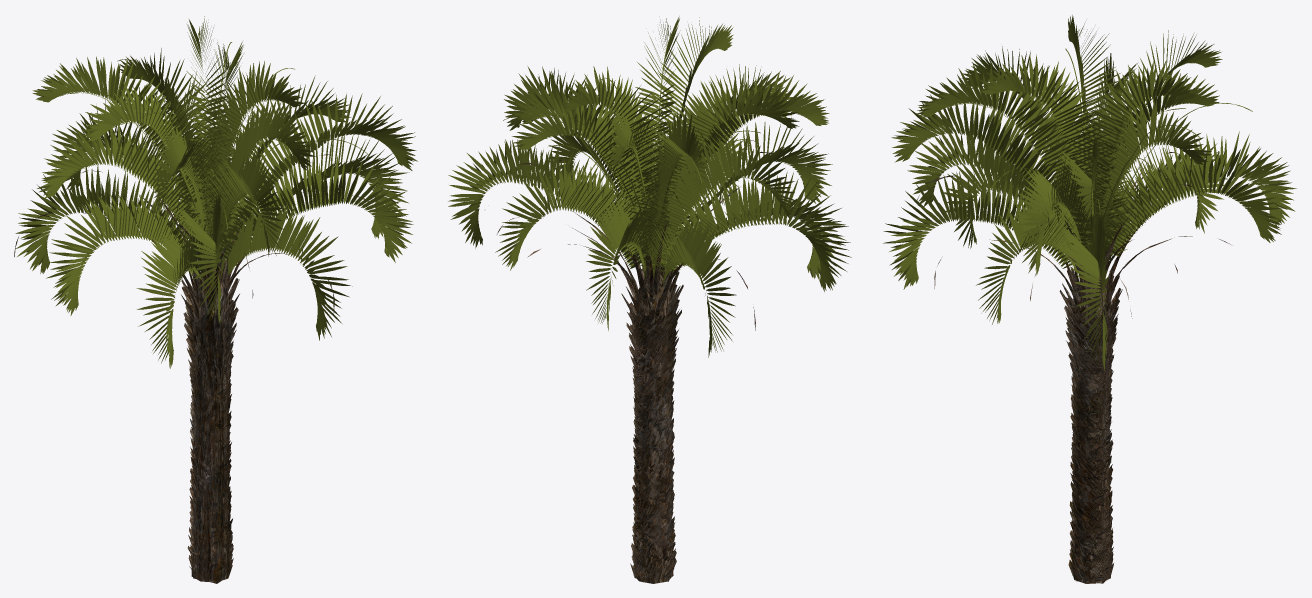
The model's file is Palm.FBX.
3 views of the same model, side by side, from view 1: azimuth 30°, elevation 25°; view 2: azimuth 150°, elevation 25°; view 3: azimuth 270°, elevation 25° (orthographic).
Visible parts, largest first — view 1: Butia_eriospatha_dubai27, Group01; view 2: Butia_eriospatha_dubai27, Group01; view 3: Butia_eriospatha_dubai27, Group01.
Part boxes in pixels (bbox=[...]): Butia_eriospatha_dubai27: bbox=[15, 16, 417, 368]; Group01: bbox=[14, 42, 381, 583]; Butia_eriospatha_dubai27: bbox=[448, 16, 851, 357]; Group01: bbox=[497, 77, 771, 583]; Butia_eriospatha_dubai27: bbox=[883, 15, 1296, 370]; Group01: bbox=[917, 48, 1252, 583].
Size of the model in its own units: 8510 by 11395 by 8148.
Materials: 2 (2 with a texture image).
